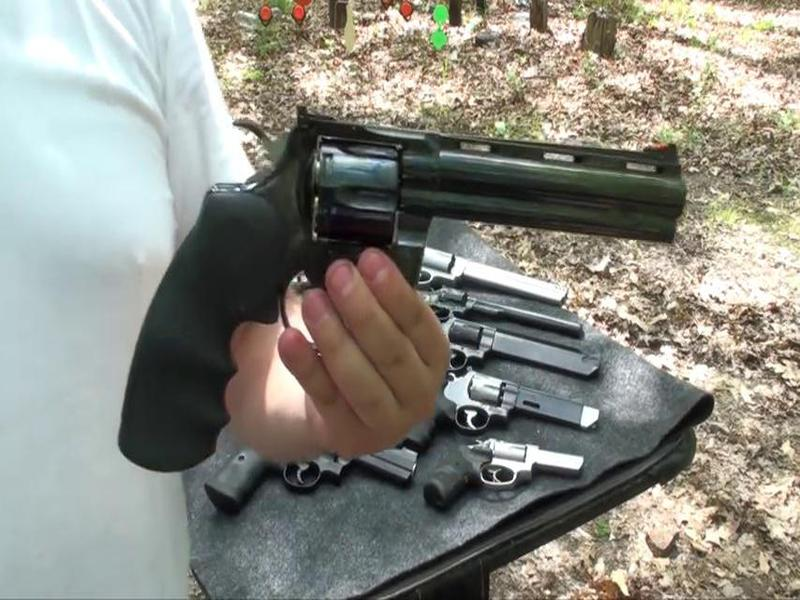Revolver: (117, 88, 694, 471)
